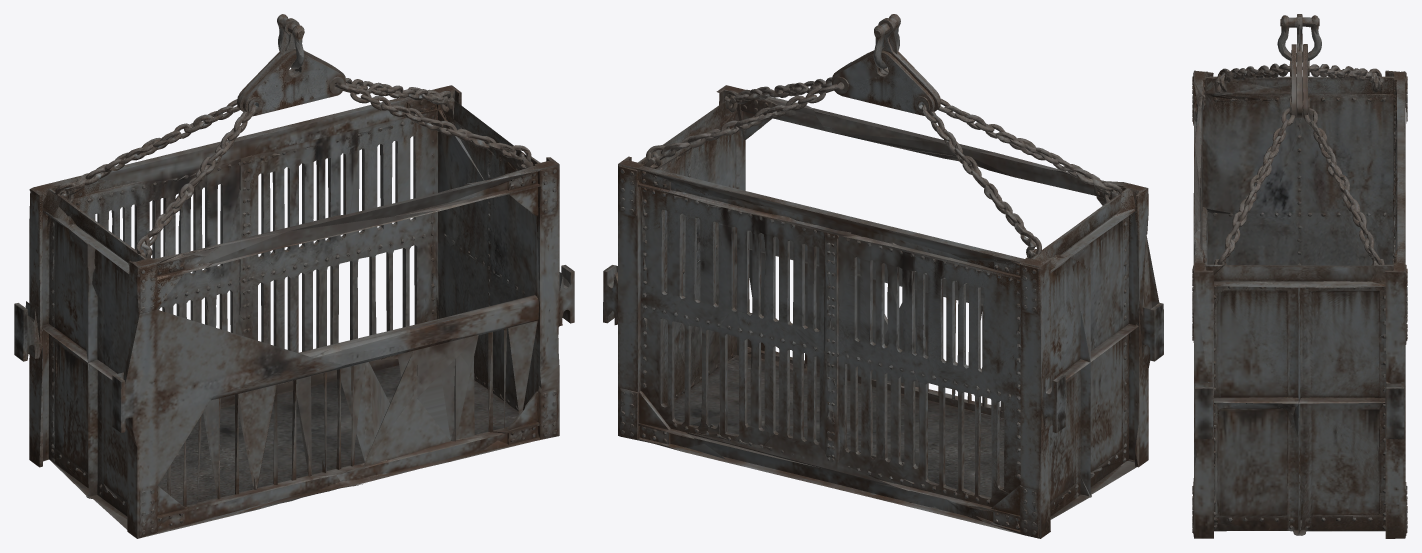
File: shaft_cage_foerderkorb__a.glb
3 views of the same model, side by side, from view 1: azimuth 30°, elevation 25°; view 2: azimuth 150°, elevation 25°; view 3: azimuth 270°, elevation 25° (orthographic). The views are drawn at different scales.
Size of the model in its own units: 1.9 by 1.72 by 0.7985.
1 material, 1 textured.
